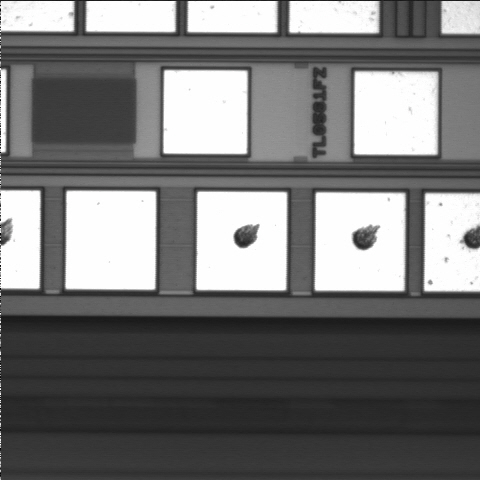pad: (66, 191, 156, 290), (197, 192, 287, 290), (315, 193, 405, 291), (164, 70, 247, 154), (354, 72, 438, 155)
